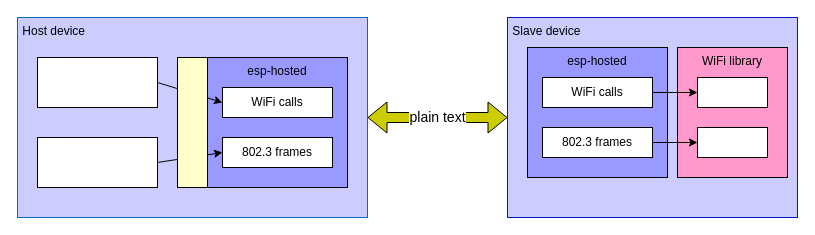
This 815x235 diagram has some shape labels left out. The shapes that lost their labels are listed below. From the top down, each one's centre as x and y in pixels, then its label:
At (x=97, y=82): "Application".
At (x=732, y=92): "public API".
At (x=192, y=122): "esp-wifi-remote".
At (x=732, y=142): "private API".
At (x=97, y=162): "TCP/IP".
